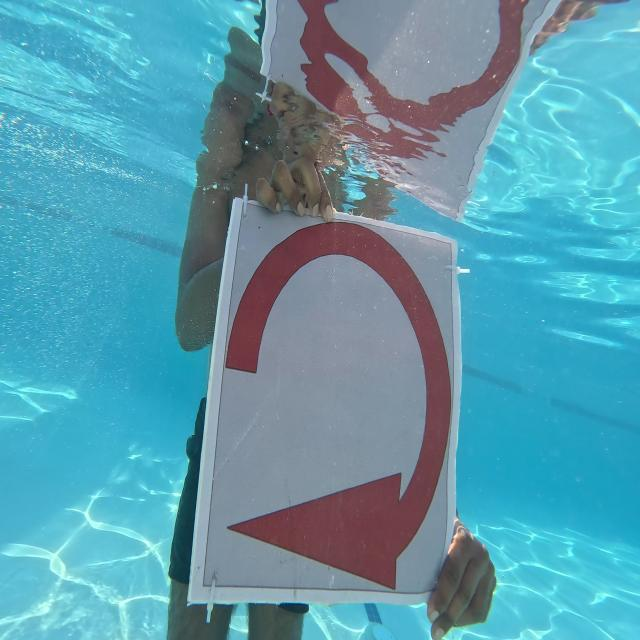red_side: (187, 188, 471, 621)
